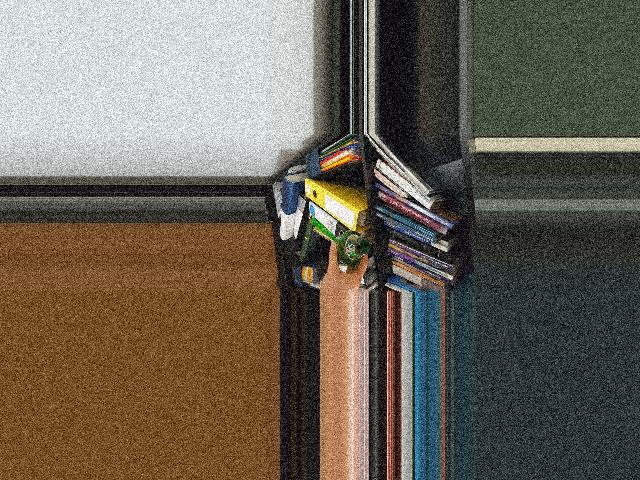beer: (333, 230, 369, 264)
